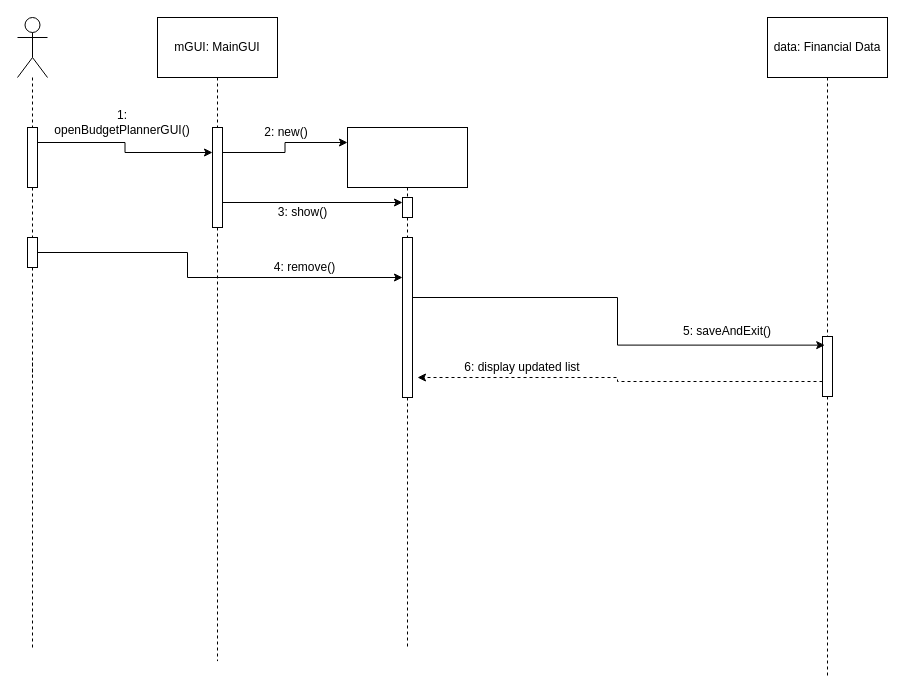
The diagram is 905 pixels wide and 696 high, and some of its shapes have lost their labels. Here are the shapes that lost their labels. From the top down, the box of each, then its label:
(16, 16, 48, 78): Actor
(346, 126, 468, 188): budgetGUI: BudgetPlannerGUI
